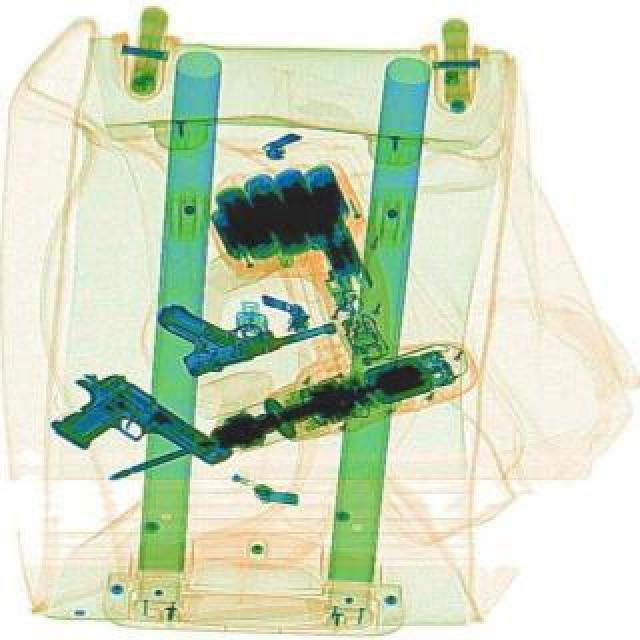gun: (40, 354, 230, 518), (152, 262, 336, 384)
